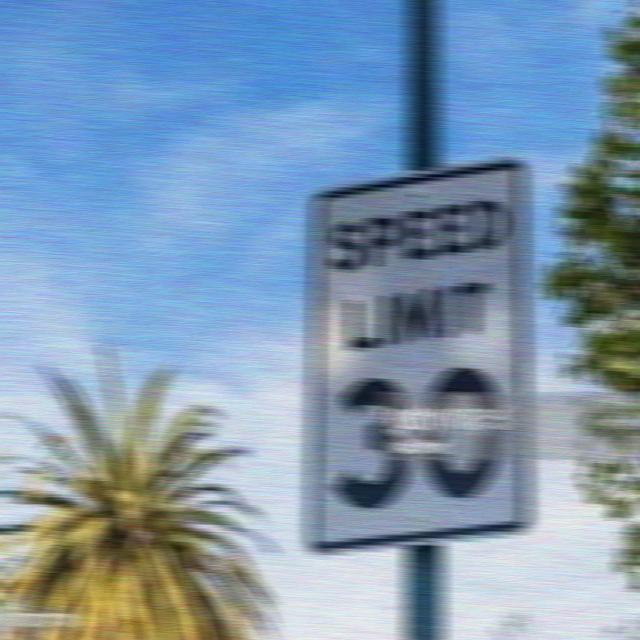speedLimit30: (309, 152, 532, 564)
